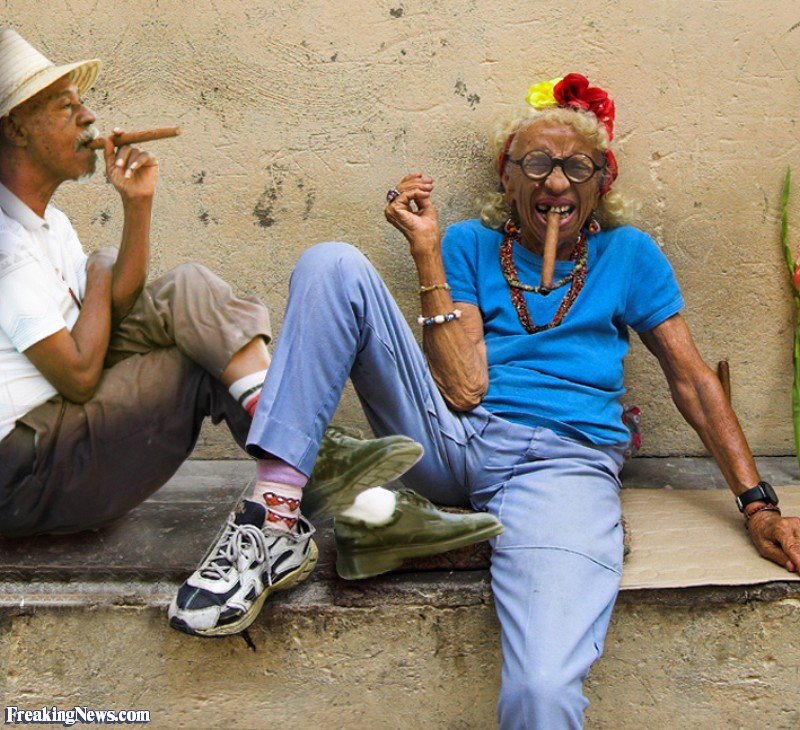cigarette: (83, 129, 187, 154), (539, 200, 560, 301)
